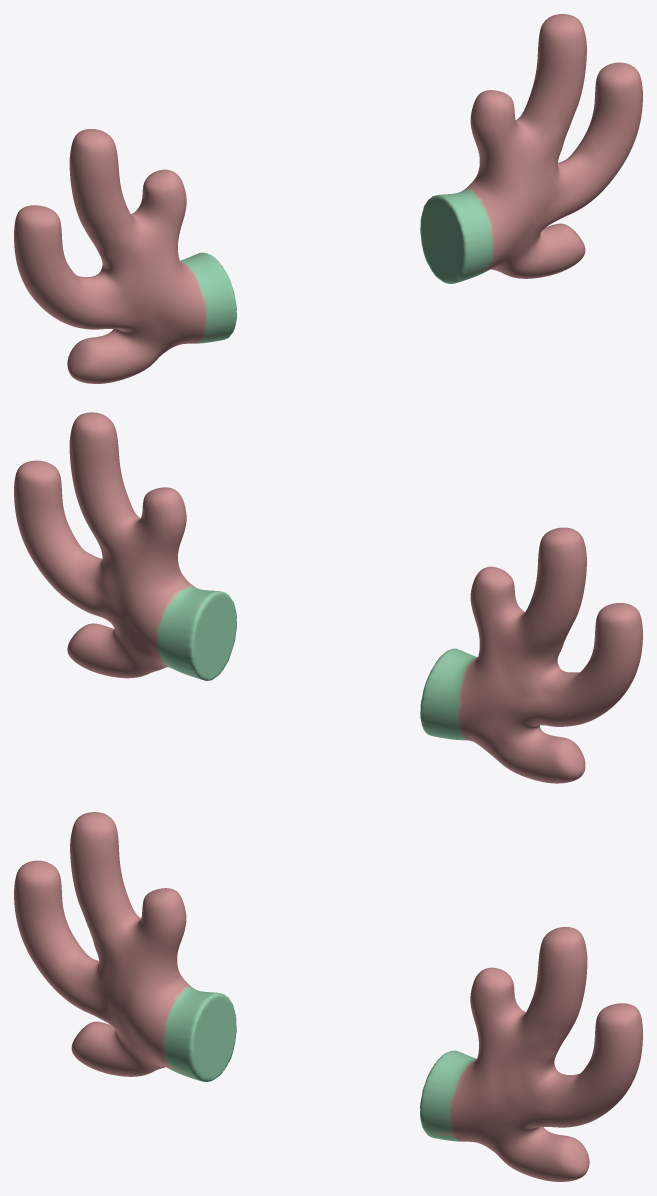
Rendered from reindeer_antlers_AR.glb.
The picture shows the model from 3 angles, top to bottom: view 1: azimuth 30°, elevation 25°; view 2: azimuth 150°, elevation 25°; view 3: azimuth 330°, elevation 25°; orthographic projection.
Visible parts, largest first — view 1: Antler_R, Antler_L; view 2: Antler_R, Antler_L; view 3: Antler_L, Antler_R.
Boxes of the visible parts, <box> form: Antler_R: <box>420,14,642,283</box>; Antler_L: <box>14,129,236,383</box>; Antler_R: <box>14,412,236,680</box>; Antler_L: <box>420,527,642,783</box>; Antler_L: <box>14,812,236,1081</box>; Antler_R: <box>420,927,642,1181</box>.
Bounding box in the file's own units: 0.29 × 0.1126 × 0.0365.
